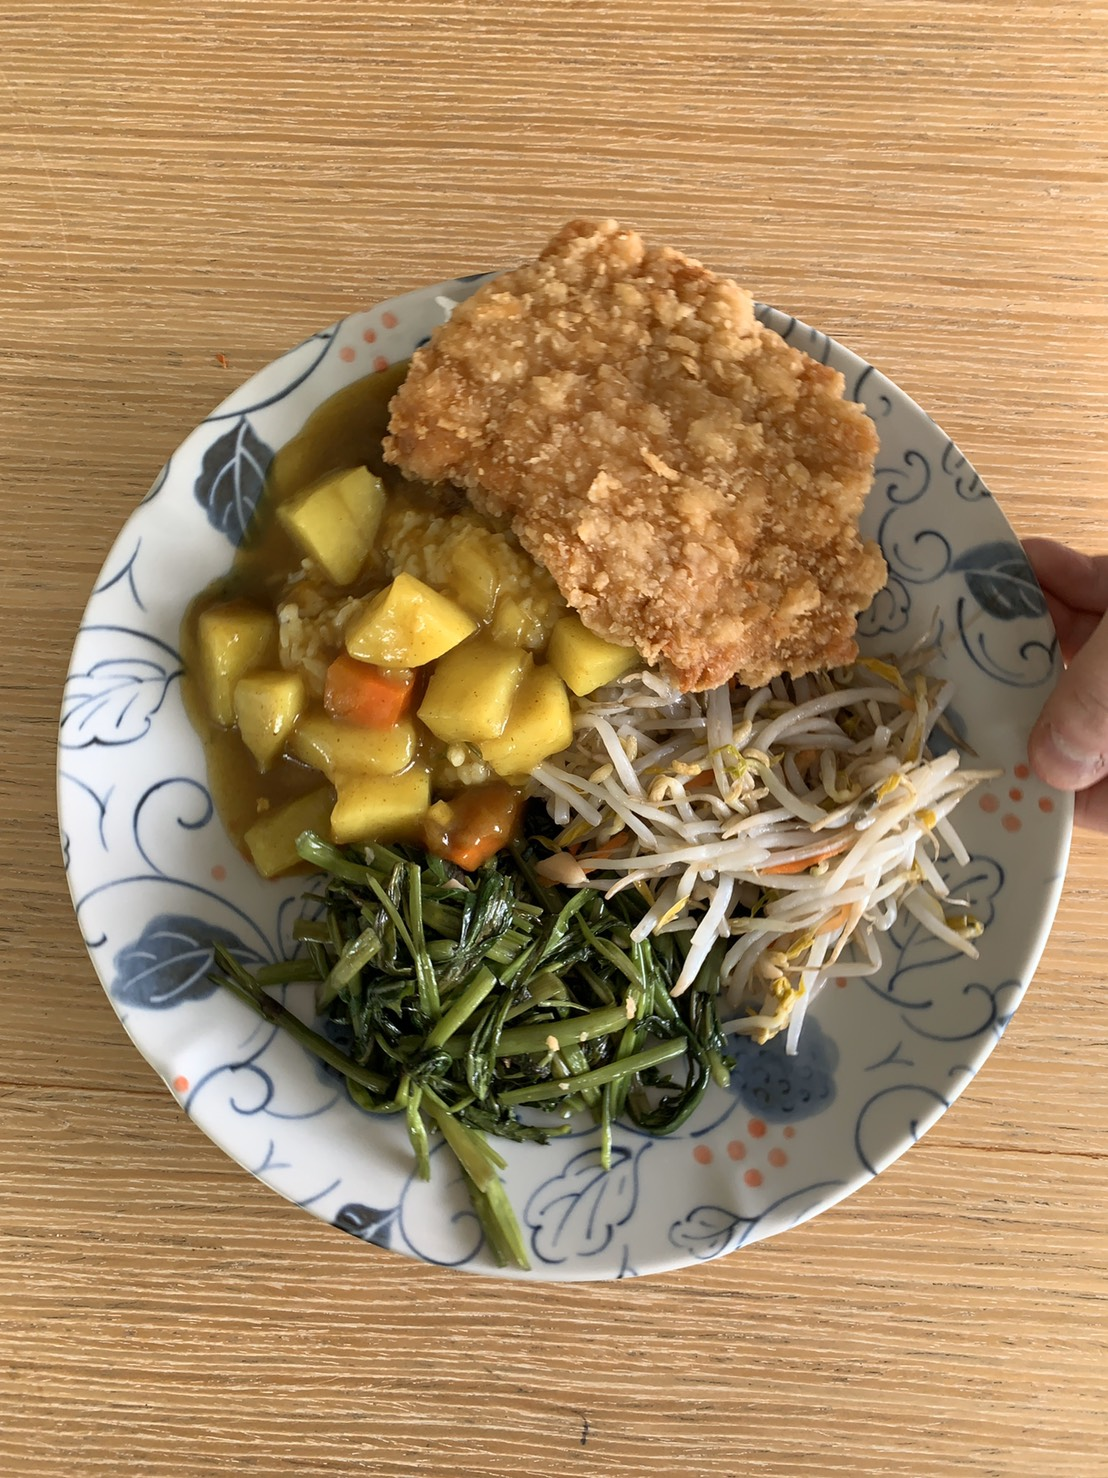curry: (207, 553, 537, 809)
fried_chicken: (421, 226, 887, 672)
mung_bean_sprouts: (642, 704, 923, 941)
water_spinach: (303, 857, 673, 1141)
